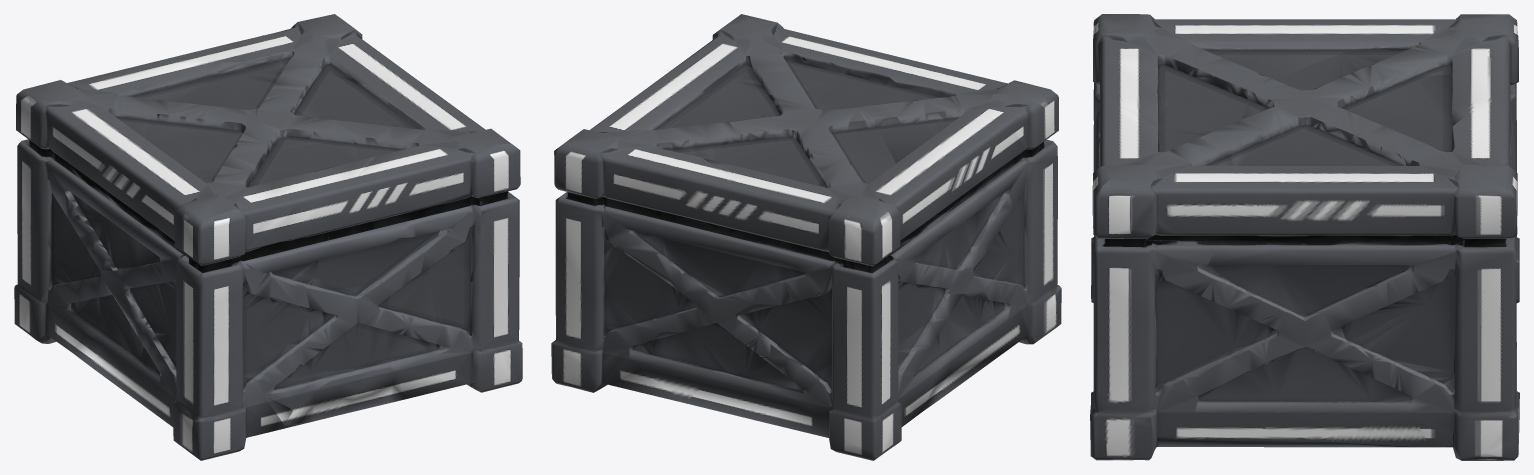
3 views of the same model, side by side, from view 1: azimuth 30°, elevation 25°; view 2: azimuth 150°, elevation 25°; view 3: azimuth 270°, elevation 25° (orthographic). The views are drawn at different scales.
Size of the model in its own units: 1.42 by 1 by 1.42.
1 material, 1 textured.
